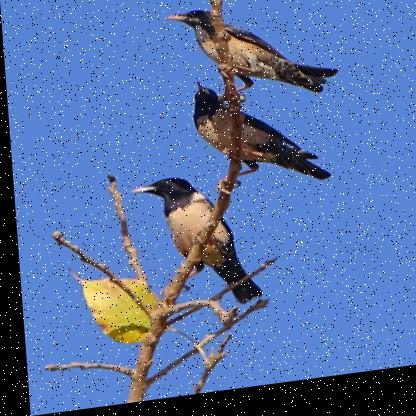Burung: (164, 1, 335, 119), (130, 171, 258, 322), (183, 72, 327, 203)
